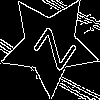Z: (24, 20, 77, 72)
